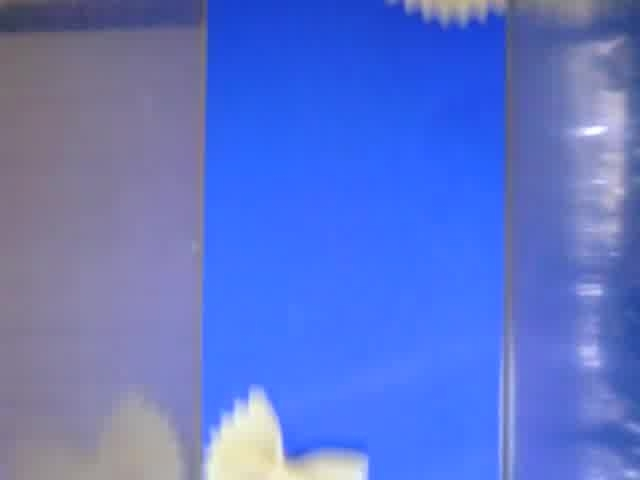farfalle: (205, 386, 369, 480)
